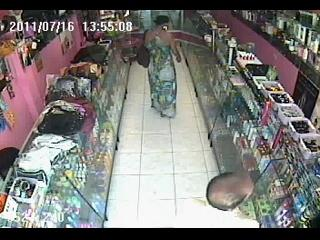Normal: (140, 15, 182, 118), (136, 29, 150, 68)
